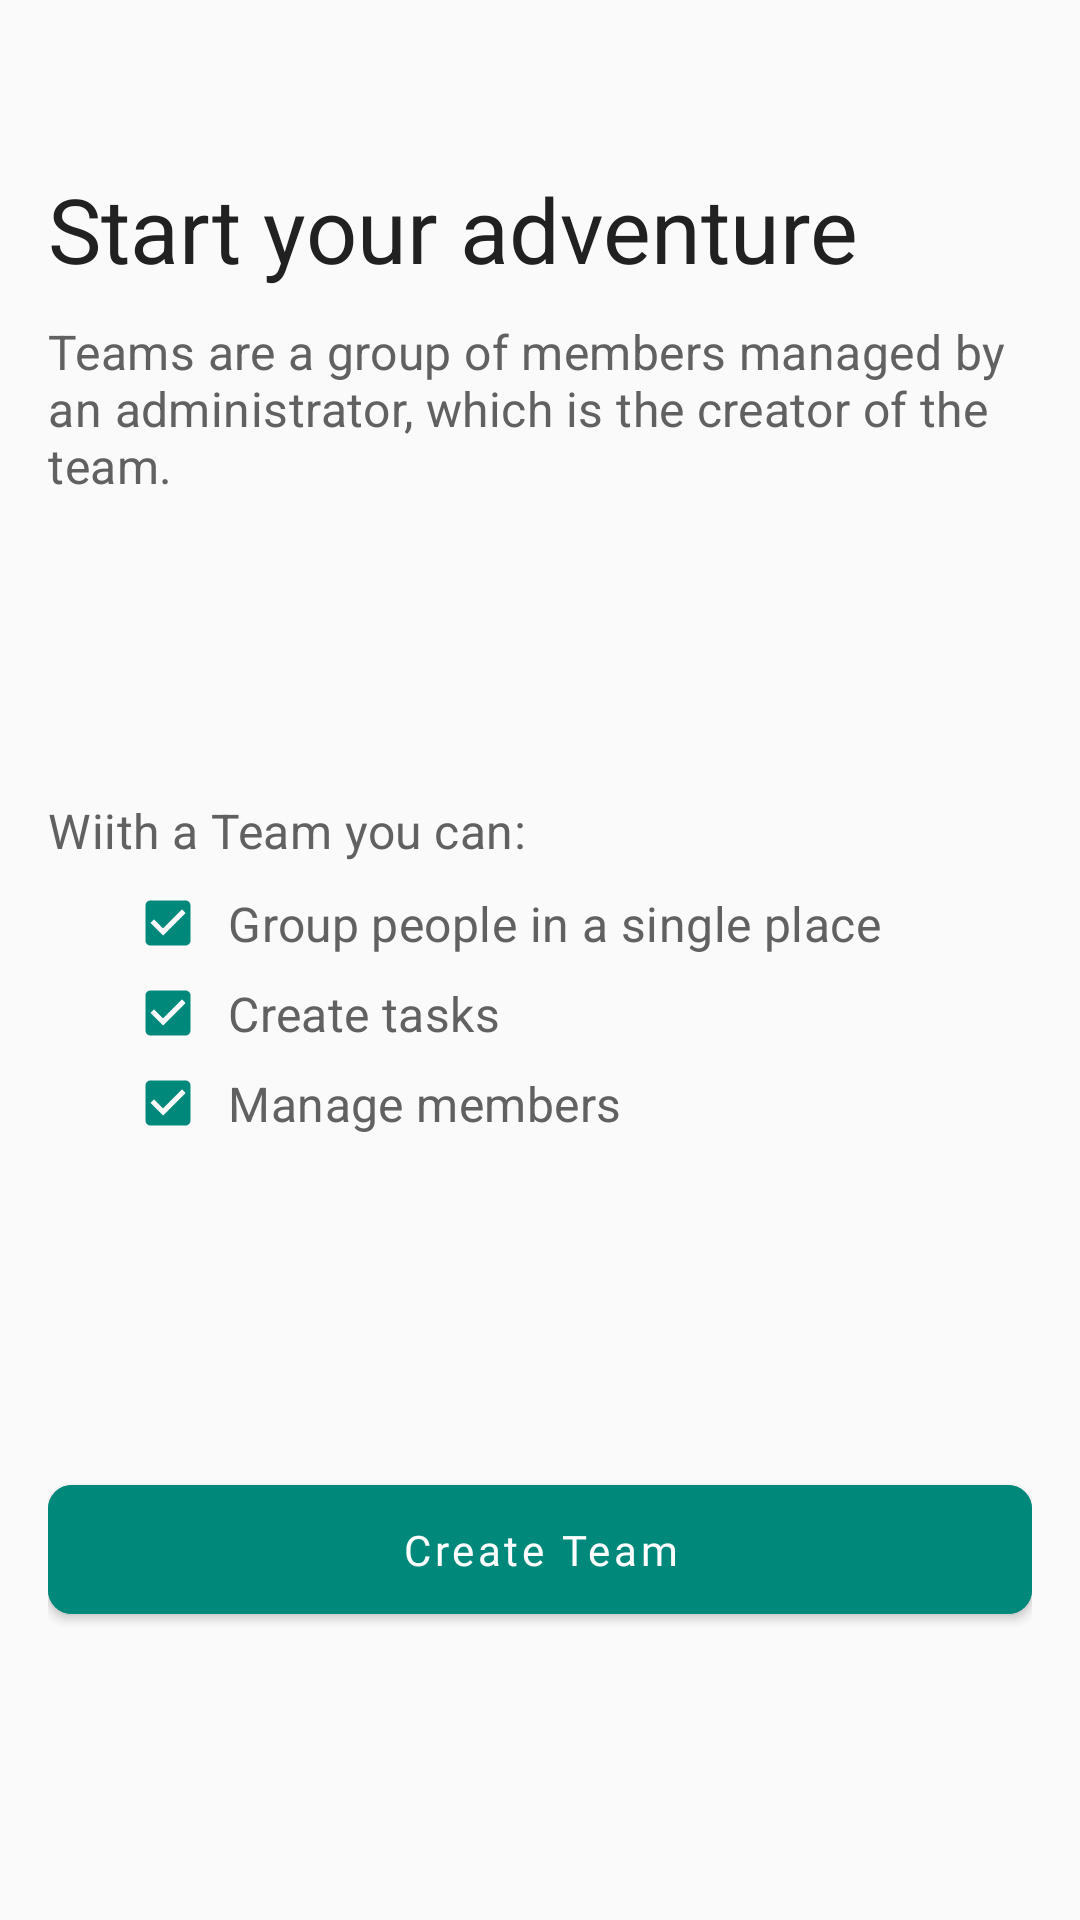

Screen size 1080*1920. Icon name, then its box in pixels as (x1, y1, x2, y2):
checkbox: (145, 900, 191, 946), (145, 990, 191, 1036), (145, 1080, 191, 1126)
